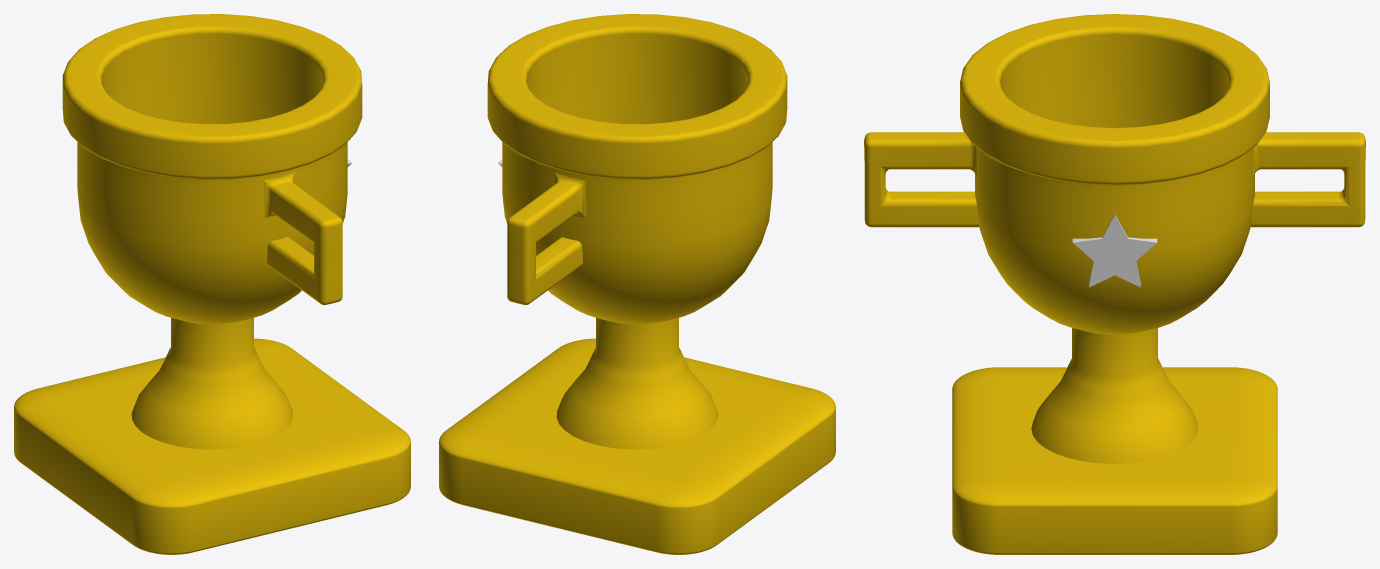
The model's file is reward.glb.
3 views of the same model, side by side, from view 1: azimuth 30°, elevation 25°; view 2: azimuth 150°, elevation 25°; view 3: azimuth 270°, elevation 25° (orthographic). The views are drawn at different scales.
Parts seen in each view (by area): view 1: Sphere; view 2: Sphere; view 3: Sphere.
Part boxes in pixels (box(x1,y1,x2,y2)): Sphere: box(14, 14, 410, 554); Sphere: box(439, 14, 835, 554); Sphere: box(864, 14, 1365, 554).
Bounding box in the file's own units: 0.9887 × 1.4 × 1.53.
